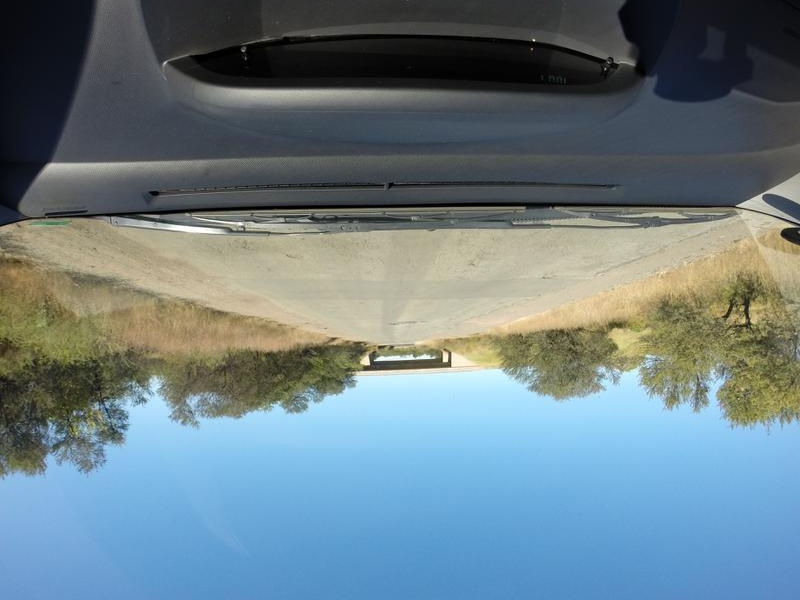pothole: (382, 316, 425, 330), (538, 271, 559, 282), (282, 251, 304, 261), (464, 258, 482, 269)
